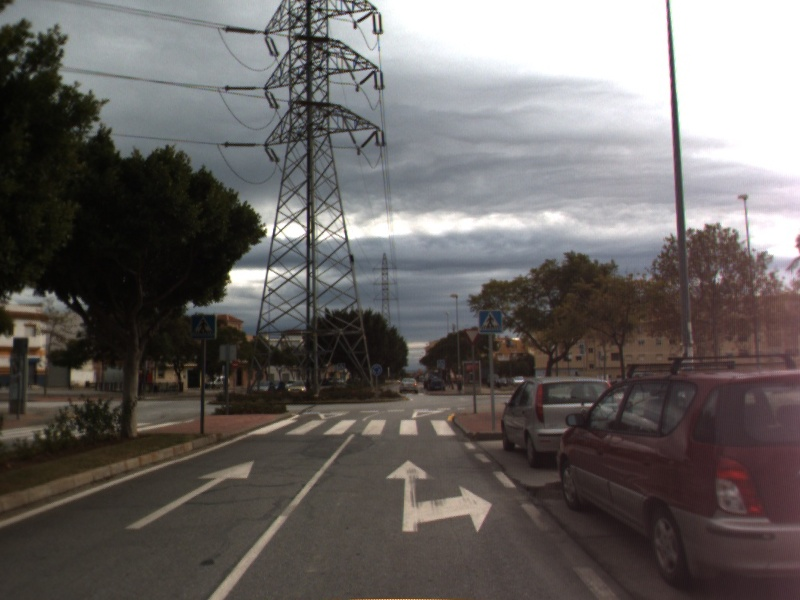STRAIGHT: (122, 459, 256, 531)
STRAIGHT_RIGHT: (383, 457, 495, 535)
